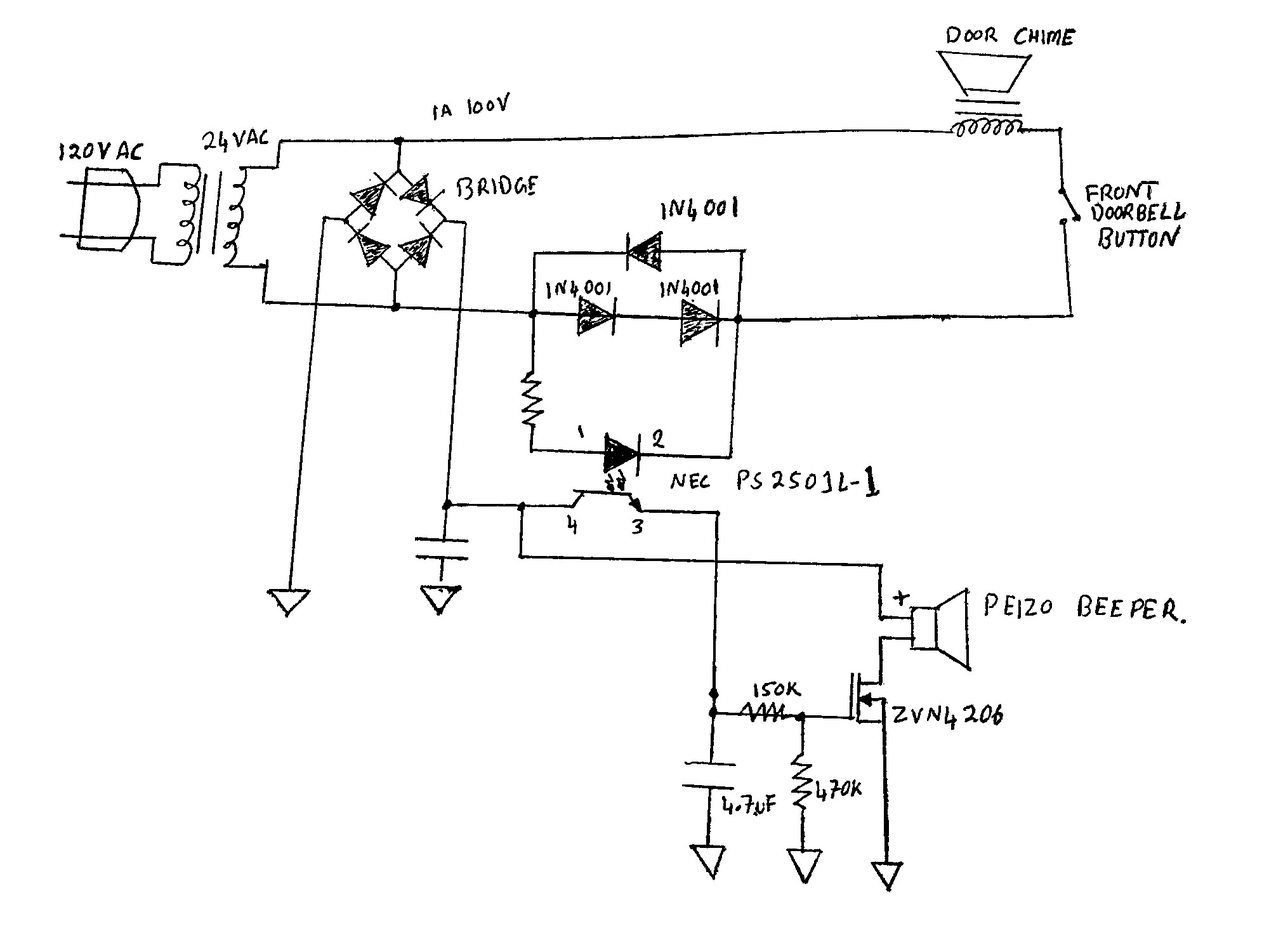capacitor.unpolarized: (679, 759, 739, 792), (412, 534, 472, 563)
crossover: (454, 303, 468, 316), (310, 296, 323, 310), (710, 555, 723, 568)
diode: (347, 171, 399, 218), (678, 298, 723, 349), (398, 221, 444, 269), (347, 222, 391, 269), (400, 174, 446, 217), (575, 296, 619, 339), (626, 230, 664, 272)
diode.light_emitting: (602, 431, 643, 493)
gnd: (784, 846, 825, 885), (688, 842, 728, 881), (266, 586, 313, 618), (419, 583, 461, 616), (869, 859, 905, 894)
inductor: (176, 162, 201, 268), (223, 164, 248, 269)
junction: (792, 710, 809, 724), (706, 706, 721, 721), (388, 298, 402, 314), (438, 498, 453, 511), (873, 560, 888, 572), (392, 134, 405, 147), (732, 314, 746, 326), (527, 306, 539, 320), (341, 214, 353, 228), (319, 213, 331, 225), (735, 246, 749, 256), (515, 501, 527, 512), (529, 248, 541, 259), (1065, 309, 1076, 321), (876, 612, 888, 623), (393, 166, 405, 177), (1053, 125, 1064, 136), (516, 552, 527, 562), (711, 509, 722, 519), (461, 218, 471, 229), (147, 256, 157, 267), (876, 633, 886, 644), (440, 216, 450, 227), (527, 446, 537, 456), (391, 266, 401, 276), (259, 298, 269, 308), (156, 159, 166, 169), (725, 452, 735, 461), (276, 137, 286, 146), (273, 162, 282, 172), (150, 233, 159, 243), (154, 179, 162, 190), (261, 262, 270, 270)
magnetic: (195, 169, 225, 262)
optical: (603, 468, 628, 493)
optocoupler: (567, 430, 647, 515)
resistor: (789, 751, 815, 811), (520, 371, 546, 428), (735, 702, 788, 725)
socket: (76, 166, 143, 253)
speaker: (935, 48, 1035, 143), (909, 586, 973, 674)
switch: (1056, 187, 1083, 227)
terminal: (63, 177, 77, 189), (56, 230, 69, 241)
text: (669, 465, 882, 499), (983, 591, 1187, 624), (890, 704, 1007, 732), (944, 25, 1076, 48), (455, 173, 547, 204), (56, 138, 145, 163), (1089, 202, 1184, 224), (660, 196, 740, 222), (1096, 226, 1182, 250), (201, 128, 270, 155), (1084, 180, 1157, 204), (718, 793, 778, 818), (544, 279, 614, 300), (815, 777, 864, 802), (466, 91, 510, 117), (659, 279, 719, 298), (752, 678, 806, 699), (564, 514, 582, 536), (432, 103, 452, 122), (651, 428, 668, 450), (629, 517, 645, 536), (574, 423, 588, 441)
transformer: (174, 162, 250, 270)
transistor.fet: (844, 670, 890, 727)
transistor.photo: (570, 469, 645, 514)
